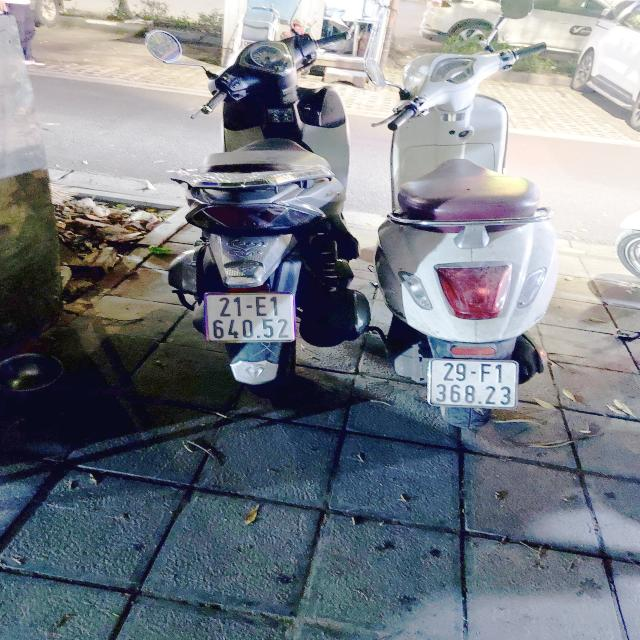license_plate: (428, 359, 520, 410), (208, 294, 296, 345)
